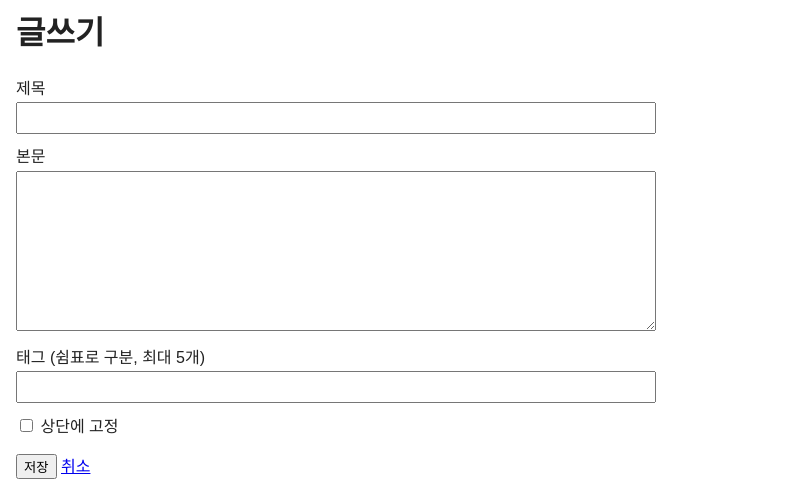
Test: PostFormPage › 서버의 필드별 검증 오류를 입력 칸 옆에 보여 준다
Step 1. Click the button "저장" → (36, 466), box [16,454,56,479]
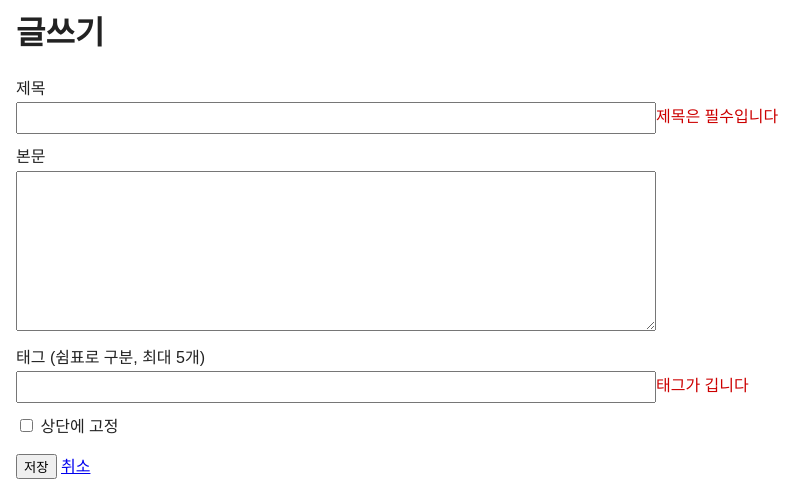
Expected: the text "제목은 필수입니다" is shown, [656,108,778,126]
Expected: the text "태그가 깁니다" is shown, [656,378,749,395]
